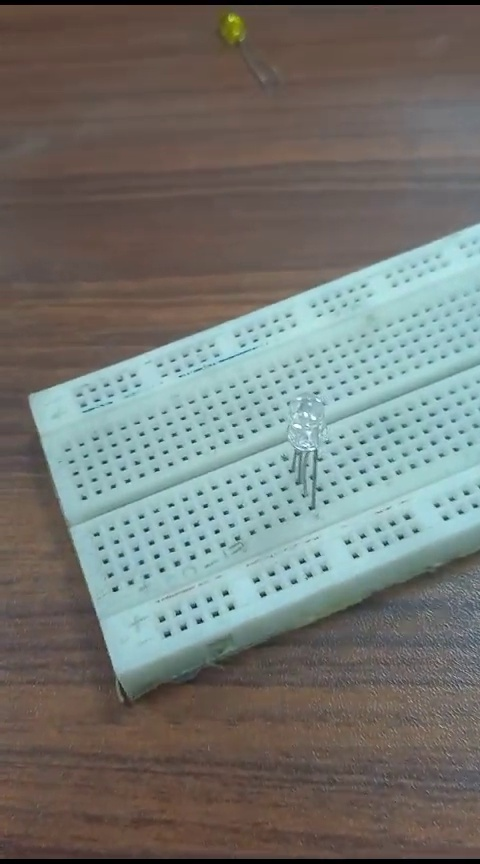LED: (274, 393, 327, 507)
